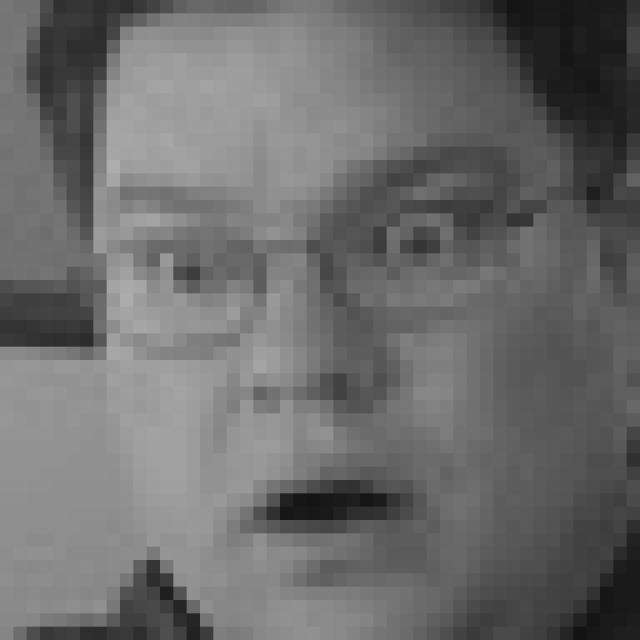surprise: (102, 139, 523, 574)
